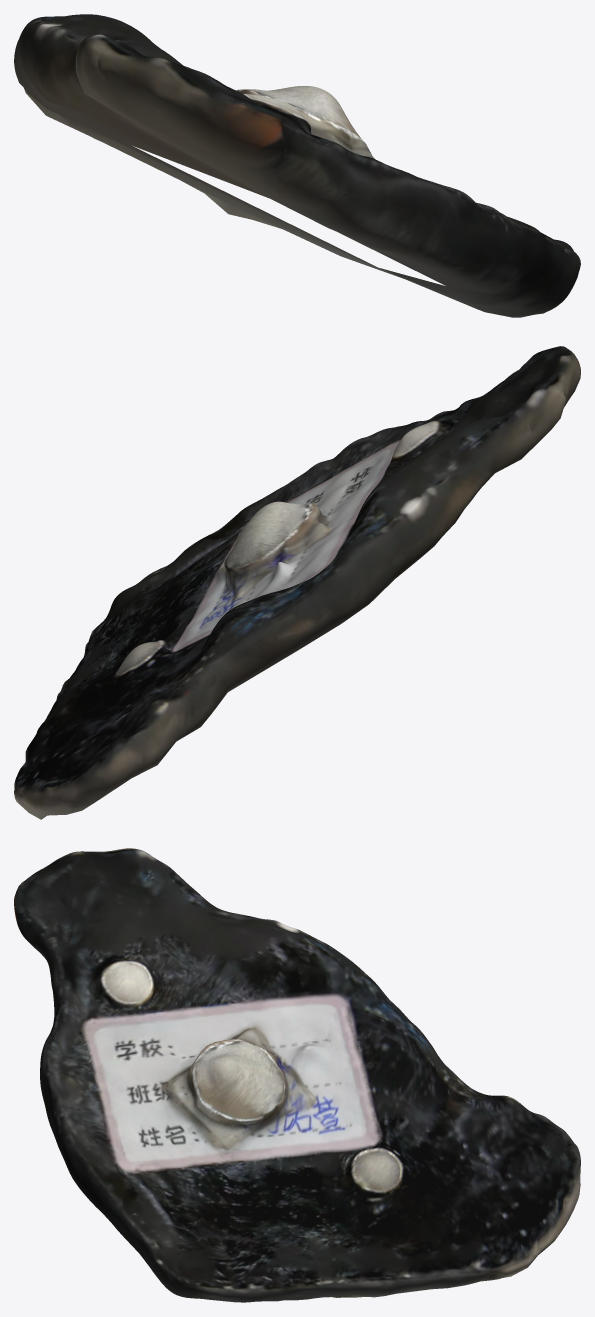
3 views of the same model, one above another, from view 1: azimuth 30°, elevation 25°; view 2: azimuth 150°, elevation 25°; view 3: azimuth 270°, elevation 25° (orthographic). The views are drawn at different scales.
Size of the model in its own units: 0.5184 by 0.4186 by 0.6971.
Materials: 1 (1 with a texture image).
